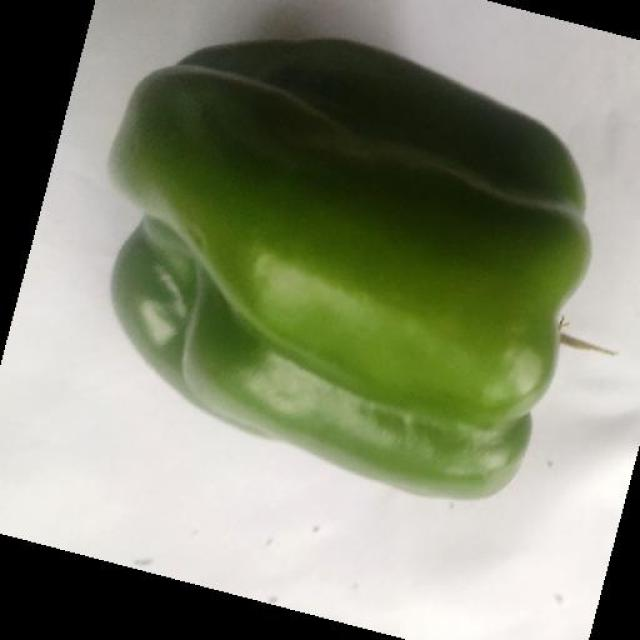Fresh_Capsicum: (124, 44, 590, 526)
